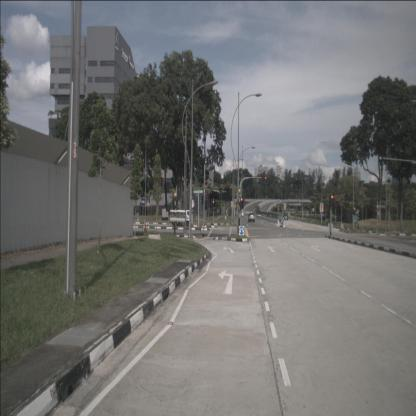barrier: (271, 218, 279, 227), (264, 216, 271, 224), (261, 216, 265, 222)
cone: (143, 221, 148, 236)
